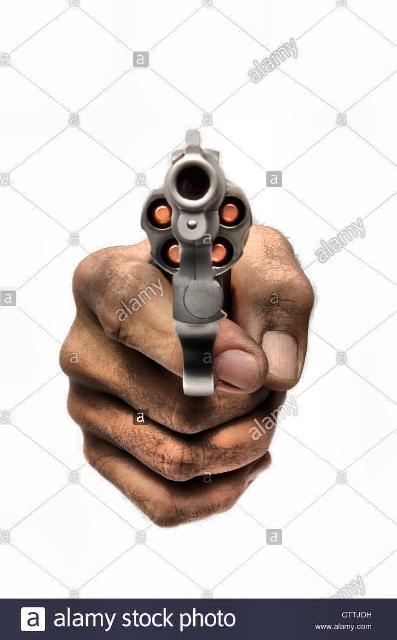pistol: (132, 122, 254, 416)
